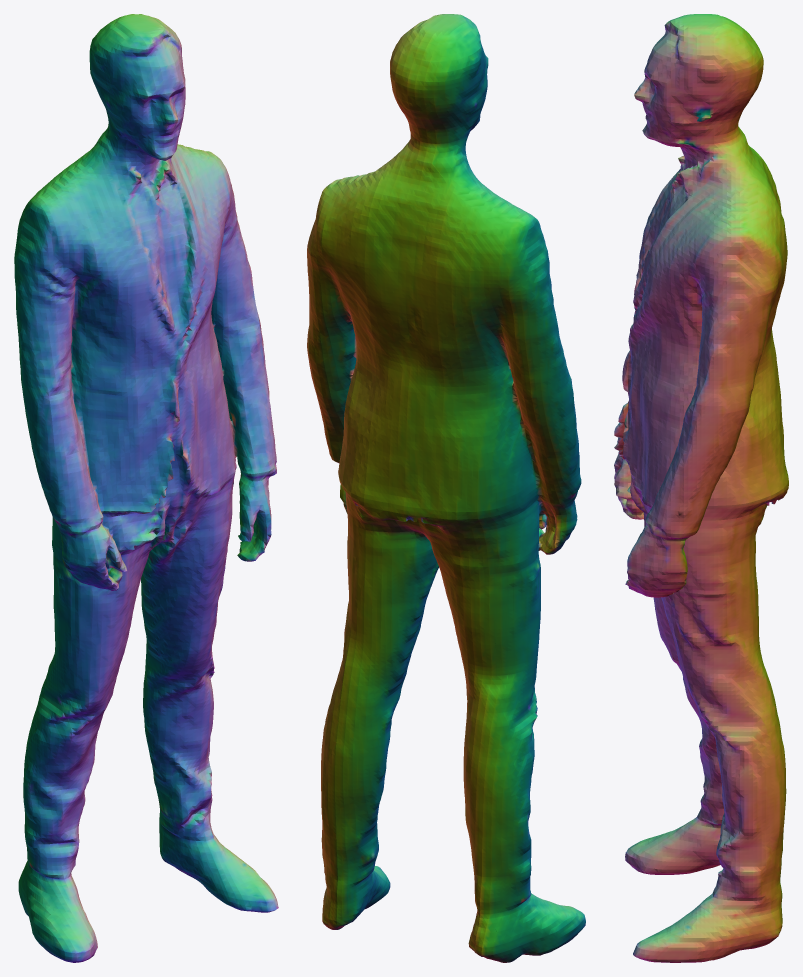
The model's file is body.obj.
The picture shows the model from 3 angles, left to right: view 1: azimuth 30°, elevation 25°; view 2: azimuth 150°, elevation 25°; view 3: azimuth 270°, elevation 25°; orthographic projection.
Bounding box in the file's own units: 0.5 × 1.79 × 0.3171.
